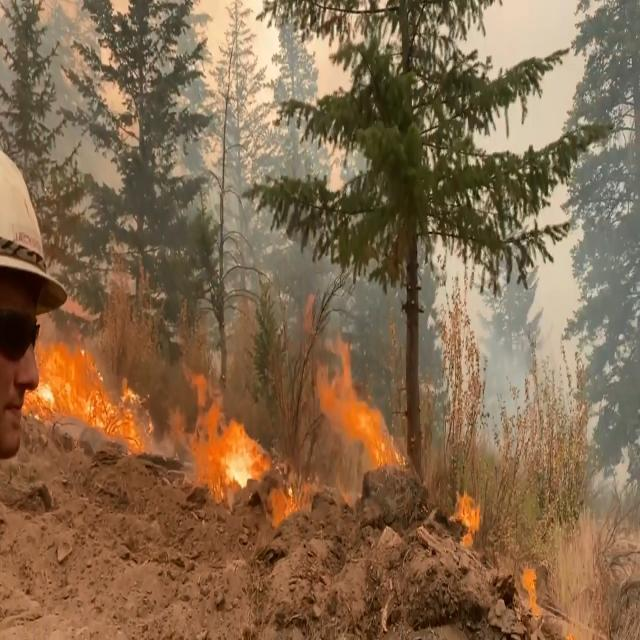Fire: (29, 321, 546, 604)
